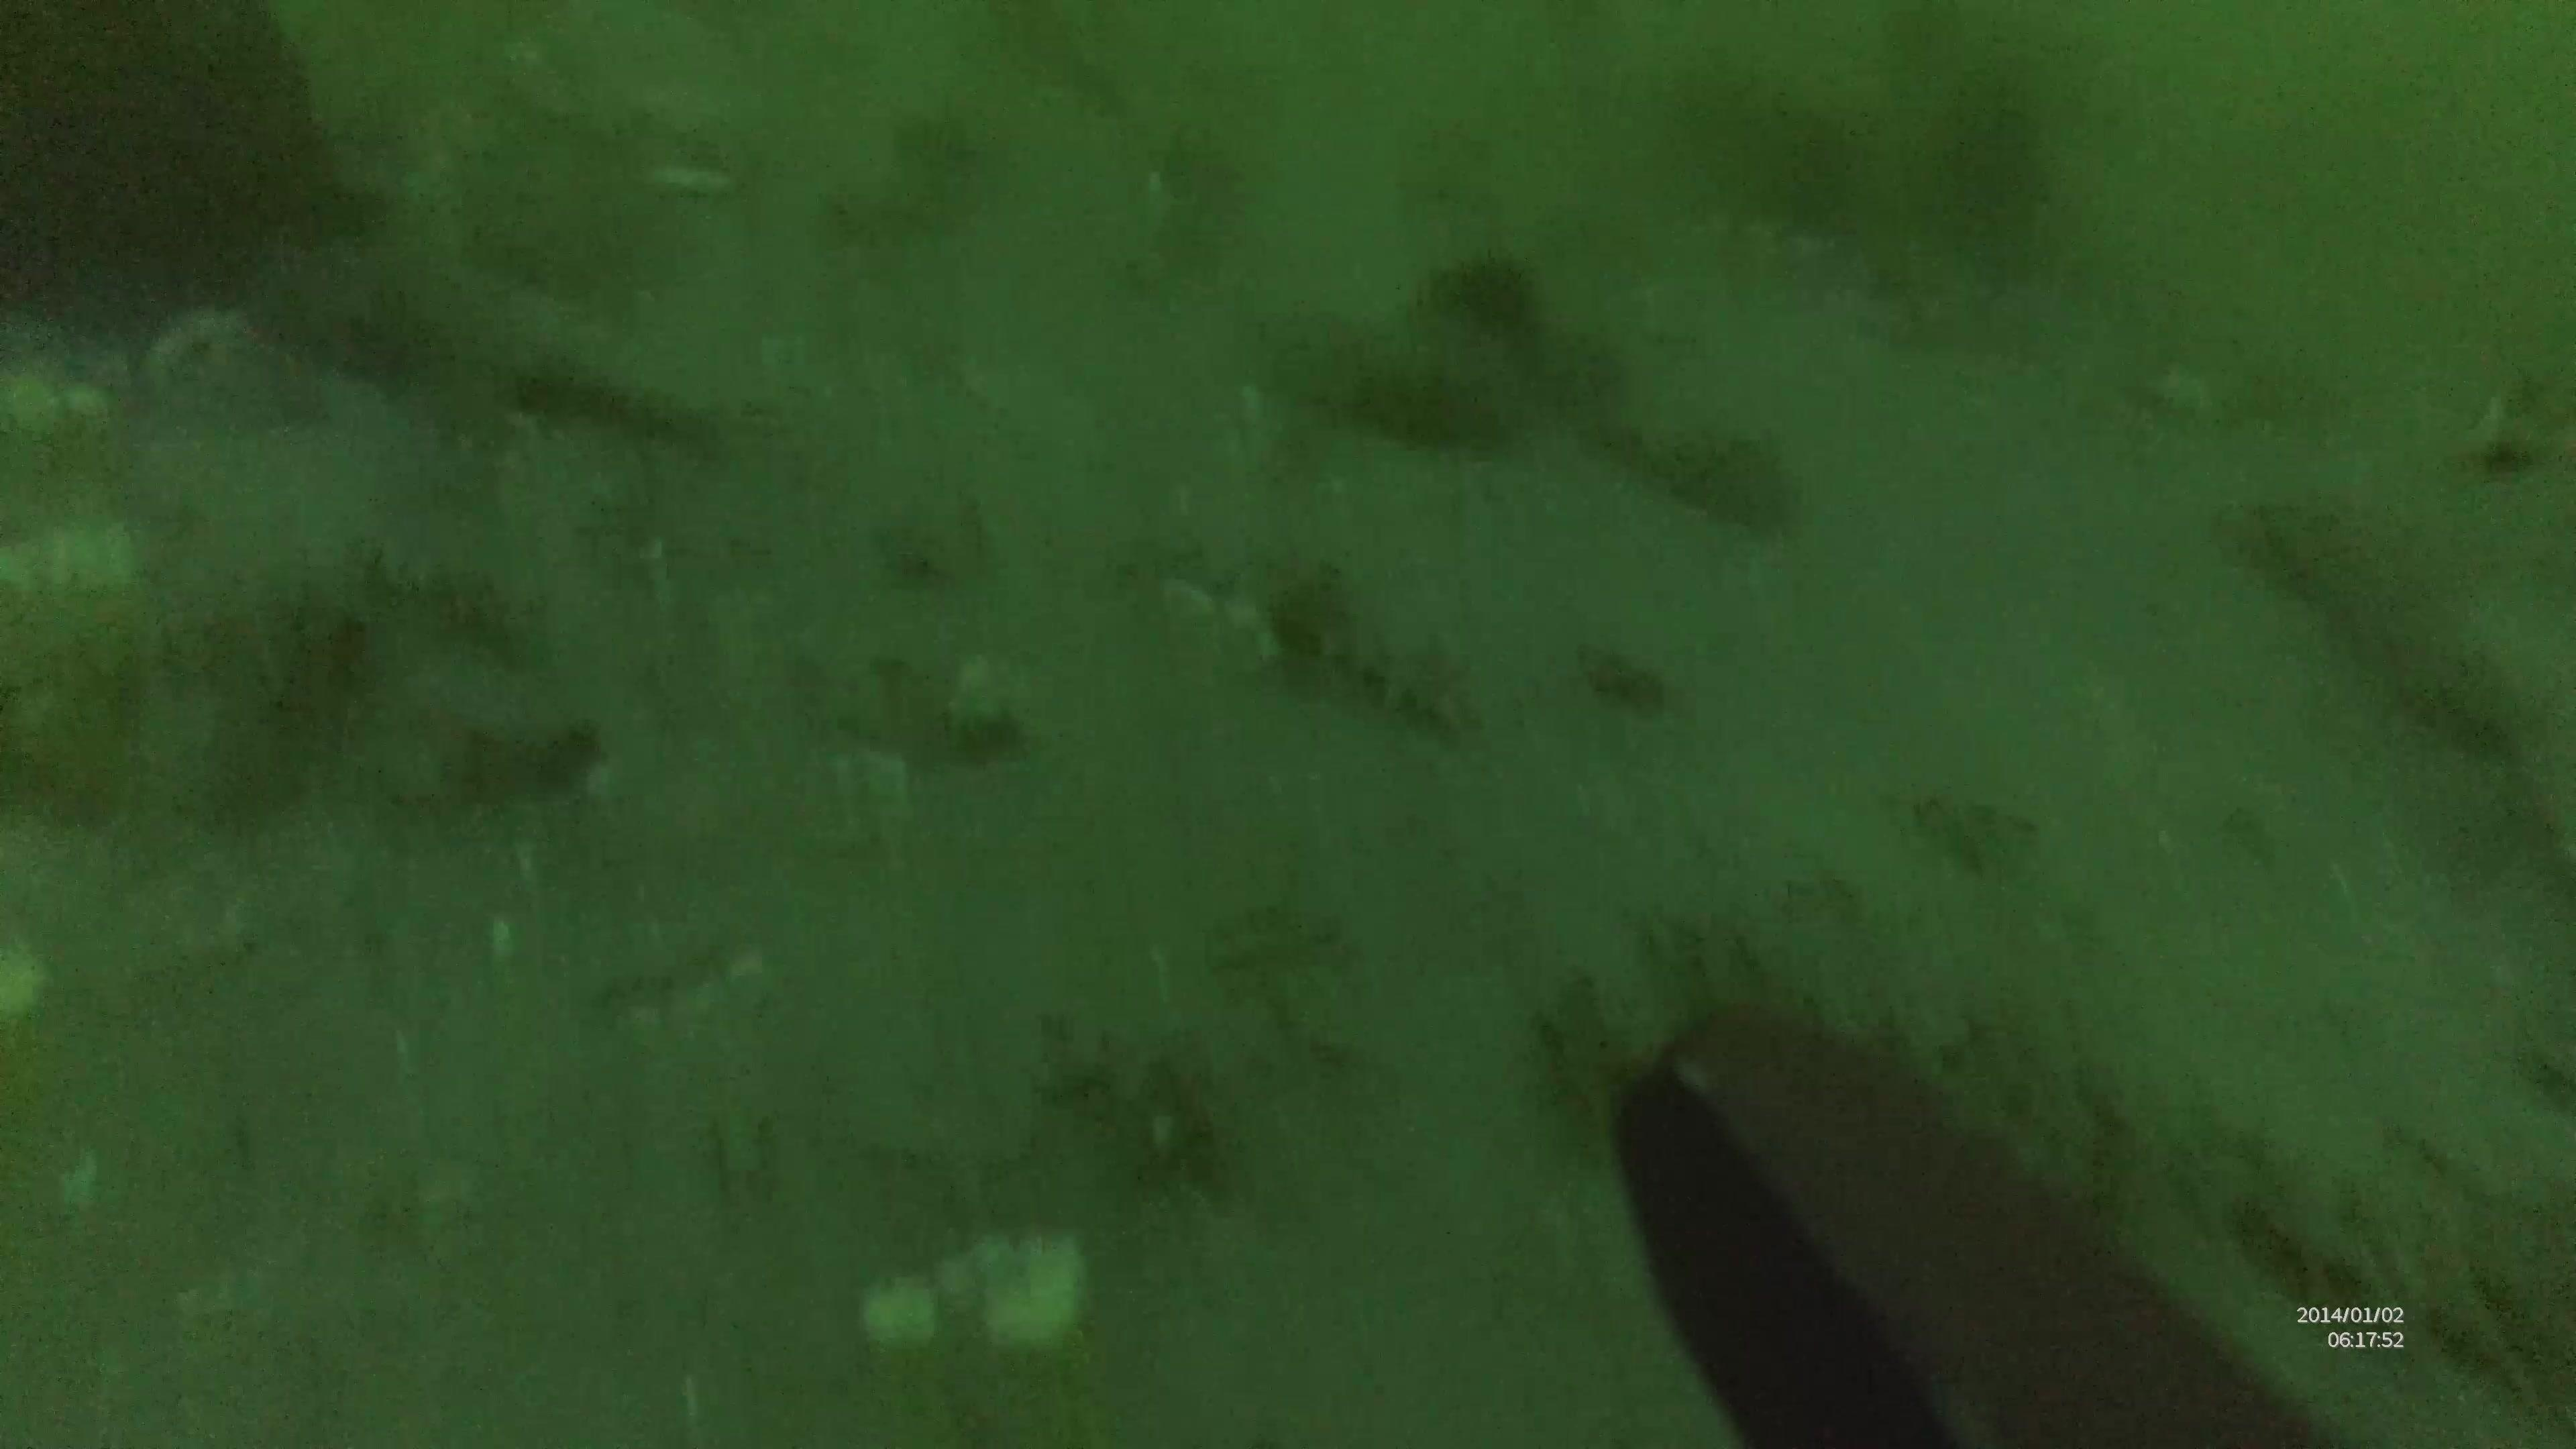echinus: (1422, 244, 1548, 343)
holothurian: (1260, 559, 1484, 741)
